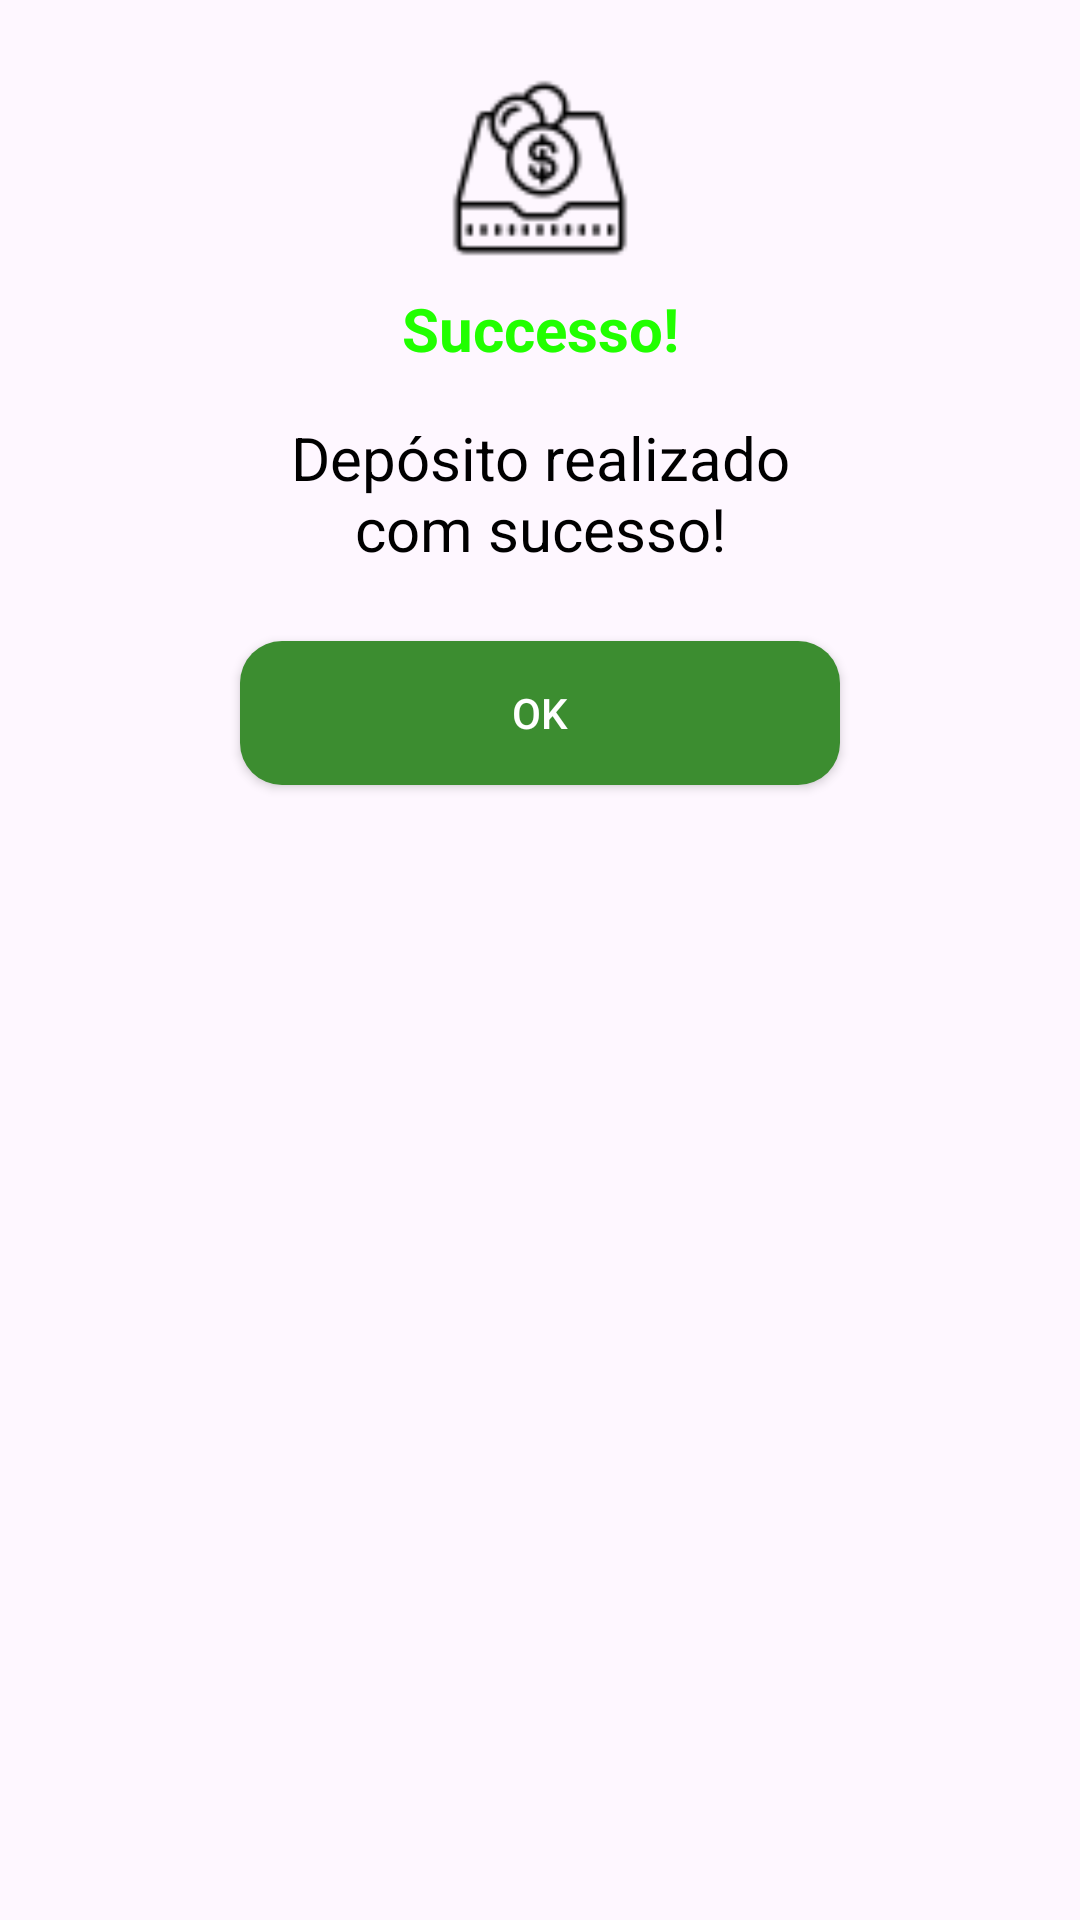

Where to tap for icons on this 1080x1920 app screen, as (x,y):
sucesso deposito: (540,168)
